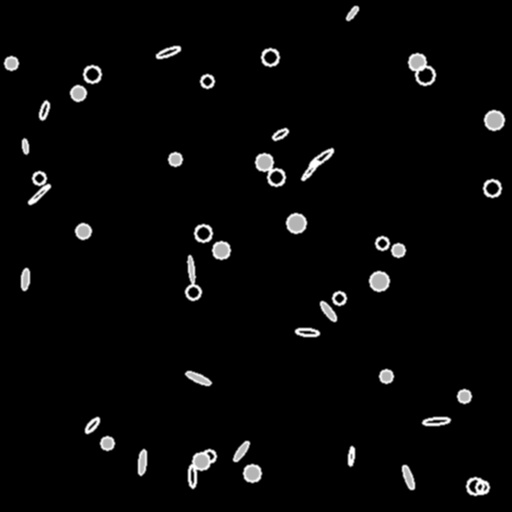pseudomonas: (308, 147, 334, 169), (27, 183, 51, 205), (184, 370, 212, 386), (318, 300, 338, 322), (300, 159, 320, 181), (232, 440, 250, 462), (156, 45, 180, 59), (401, 465, 415, 489), (84, 416, 100, 434), (271, 127, 289, 141), (137, 450, 147, 474), (38, 100, 50, 120), (345, 5, 359, 21), (187, 255, 195, 283), (423, 417, 449, 425), (295, 328, 319, 336), (188, 464, 196, 488), (21, 268, 29, 290), (347, 447, 355, 465), (21, 138, 29, 154)
synechocystis: (287, 214, 305, 232), (416, 66, 434, 84), (485, 111, 503, 129), (370, 272, 388, 290), (195, 225, 211, 241), (262, 49, 278, 65), (268, 169, 284, 185), (409, 54, 425, 70), (84, 66, 100, 82), (256, 154, 272, 170), (213, 242, 229, 258), (244, 465, 260, 481), (484, 180, 500, 196), (193, 453, 209, 469), (467, 478, 483, 494), (71, 86, 85, 100), (76, 224, 90, 238), (186, 285, 200, 299), (5, 57, 17, 69), (458, 390, 470, 402), (380, 370, 392, 382), (333, 292, 345, 304), (376, 237, 388, 249), (101, 437, 113, 449), (203, 450, 215, 462), (33, 172, 45, 184), (476, 481, 488, 493), (201, 75, 213, 87), (169, 153, 181, 165), (392, 244, 404, 256)
